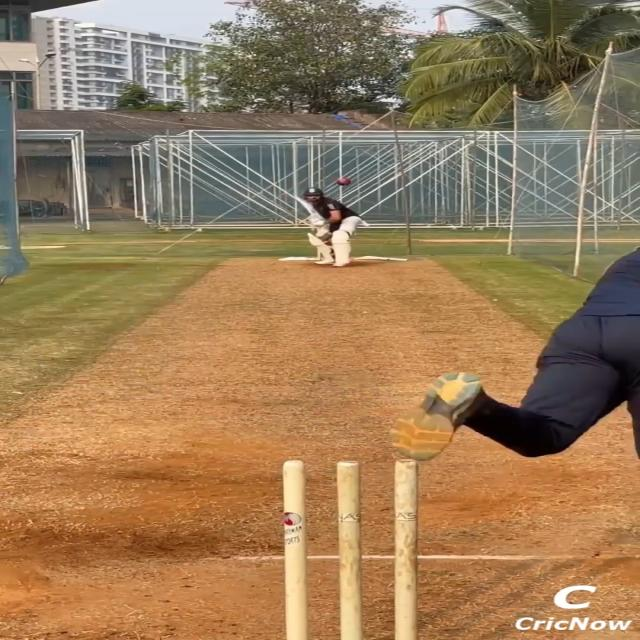ball: (336, 176, 352, 187)
stump: (282, 456, 418, 640)
